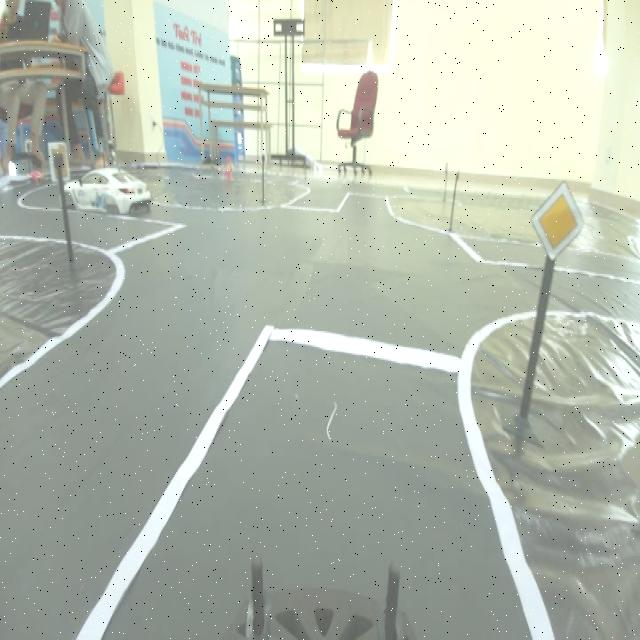priority: (525, 189, 586, 264)
